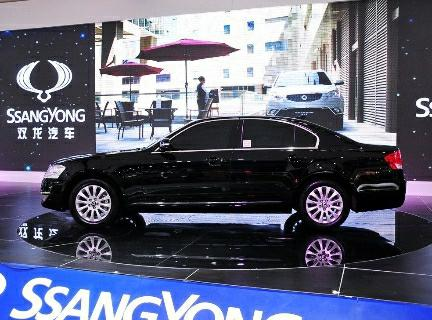car: (33, 102, 414, 237), (262, 67, 348, 133)
